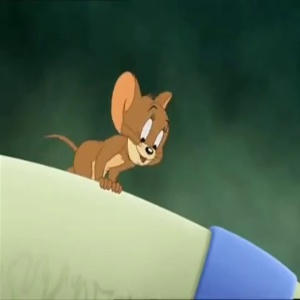Jerry: (109, 63, 177, 169)
